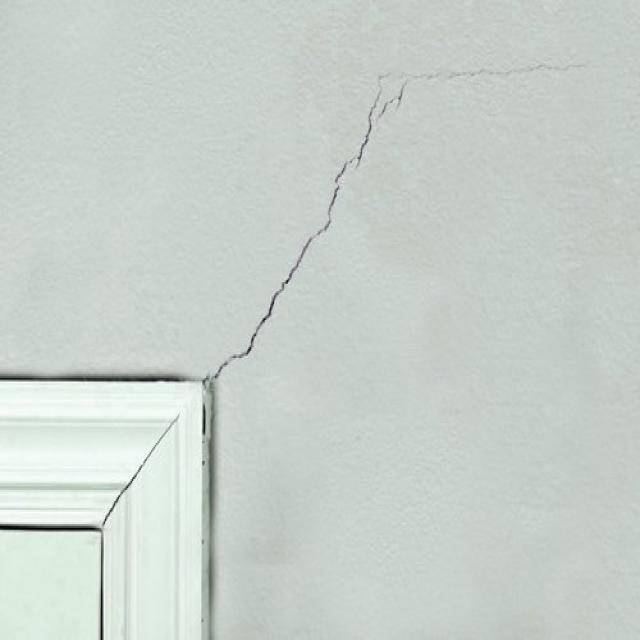leak: (205, 55, 408, 373), (378, 60, 606, 80)
